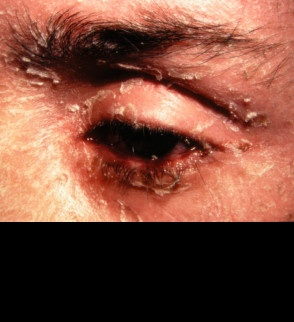SJS-TEN: (65, 92, 266, 225)
